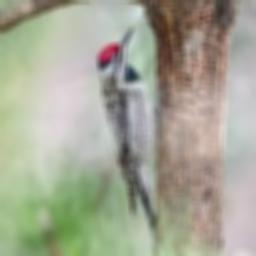Woodpecker: (98, 25, 158, 233)
